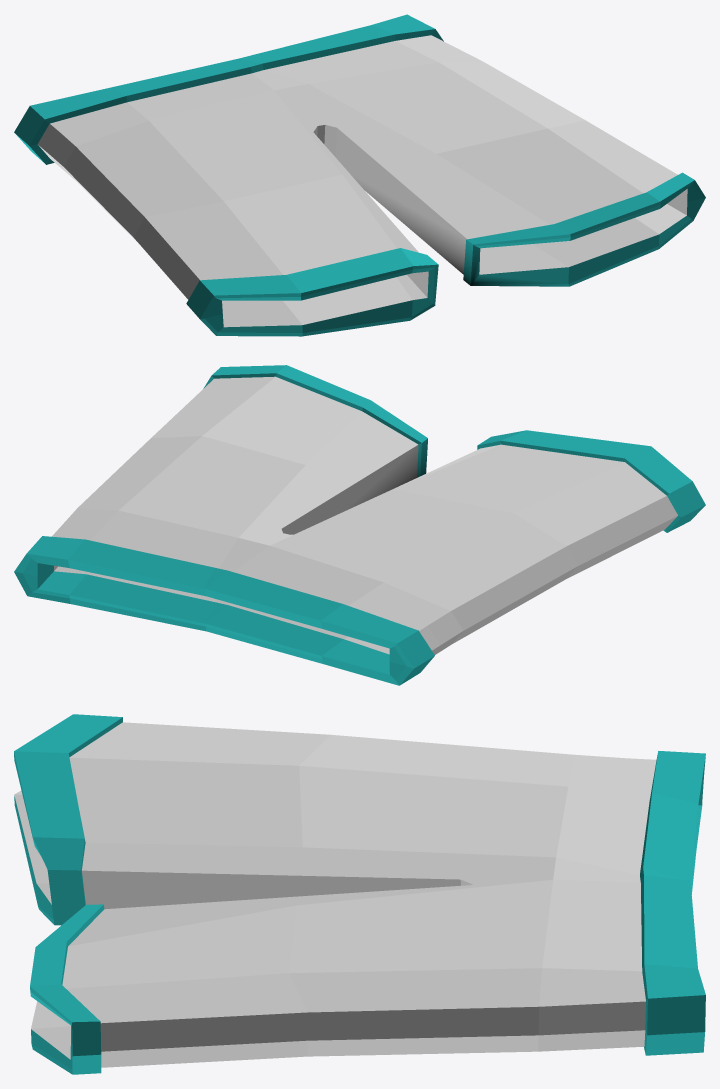
The model's file is Sports Shorts 3.fbx.
The picture shows the model from 3 angles, top to bottom: view 1: azimuth 30°, elevation 25°; view 2: azimuth 150°, elevation 25°; view 3: azimuth 270°, elevation 25°; orthographic projection. The views are drawn at different scales.
Visible parts, largest first — view 1: Node 0; view 2: Node 0; view 3: Node 0.
Part boxes in pixels (x1=…): Node 0: x1=14, y1=14, x2=705, y2=336; Node 0: x1=14, y1=365, x2=705, y2=685; Node 0: x1=14, y1=714, x2=705, y2=1074.
Size of the model in its own units: 0.7864 by 0.1251 by 0.8665.
